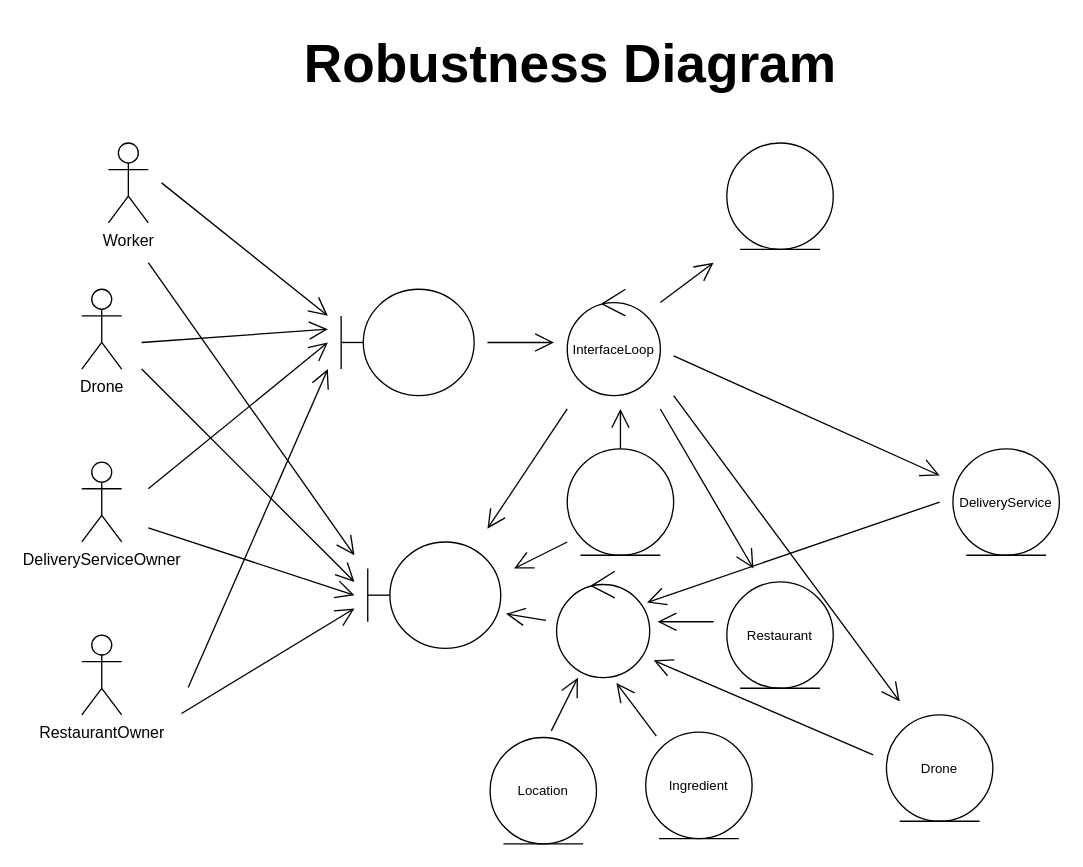
Image size: 1083x867. Some labels were removed from this diagram. Each missing label, with the centre of its shape:
Display: [602,624]
GUIDisplay: [433,594]
GUIInput: [407,342]
Person: [620,501]
PersonFactory: [779,195]
